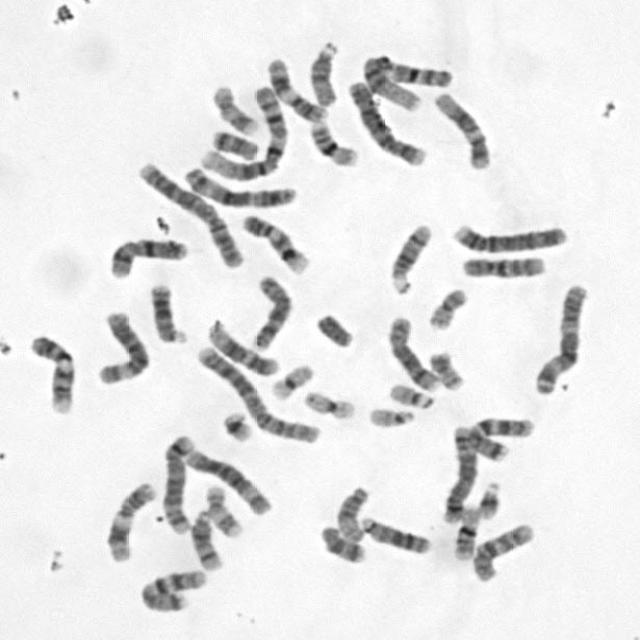A1: (198, 83, 290, 182), (357, 49, 454, 111)
A2: (192, 342, 322, 445), (133, 159, 247, 270)
A3: (530, 280, 591, 396), (180, 163, 297, 209)
B4: (344, 76, 428, 168), (448, 218, 567, 254)
B5: (438, 422, 479, 524), (158, 432, 197, 535)
C10: (467, 518, 537, 583), (458, 252, 548, 280)
C11: (102, 480, 157, 562), (263, 55, 328, 123)
C12: (430, 87, 493, 172), (202, 318, 280, 377)
C6: (181, 446, 273, 517), (93, 307, 151, 385)
C7: (462, 412, 537, 461), (135, 566, 210, 614)
C8: (384, 313, 440, 393), (247, 273, 294, 351)
C9: (240, 210, 312, 276), (26, 332, 77, 417)
D13: (357, 513, 433, 556), (147, 280, 188, 345)
D14: (386, 220, 434, 296), (188, 507, 225, 571)
D15: (305, 38, 341, 109), (333, 484, 372, 543)
E16: (306, 116, 360, 168), (450, 502, 480, 560)
E17: (209, 82, 260, 138), (202, 482, 243, 539)
E18: (316, 522, 368, 564), (207, 127, 261, 161)
F19: (300, 388, 358, 422), (266, 361, 314, 401)
F20: (424, 285, 471, 332), (426, 348, 465, 392)
G21: (220, 407, 256, 444), (476, 478, 502, 520)
G22: (386, 381, 435, 410), (366, 404, 418, 430)
X: (105, 234, 188, 281)
Y: (312, 310, 356, 350)
